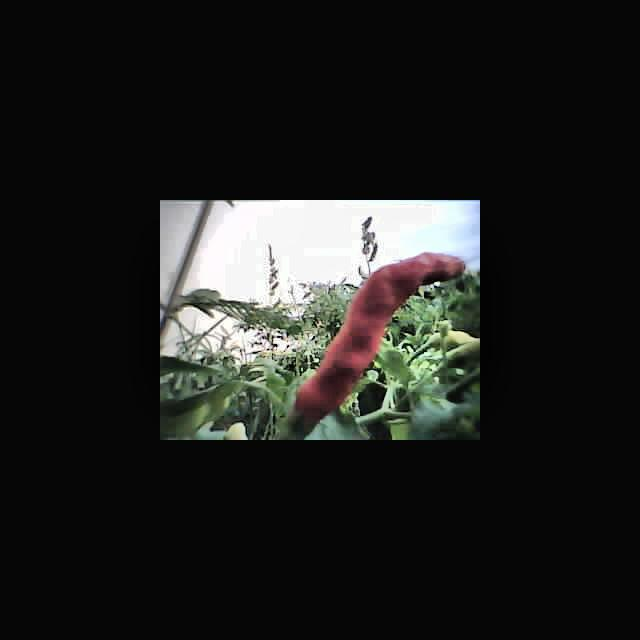Cabai: (296, 252, 463, 415)
